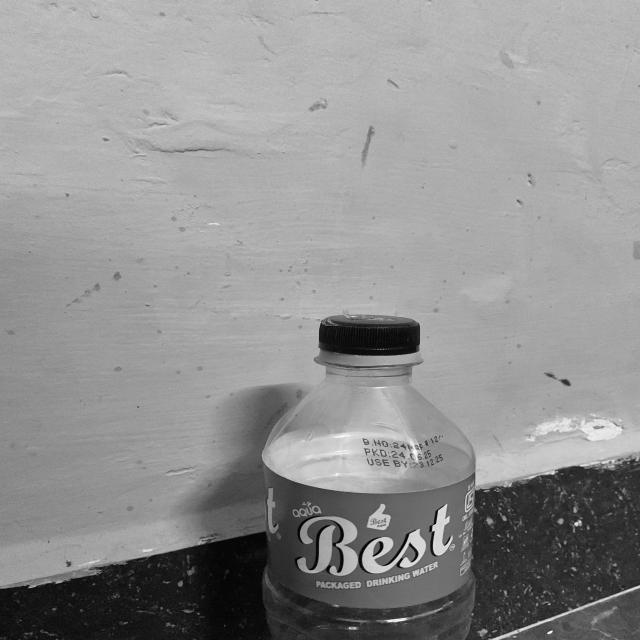Good-cap-Df0S: (317, 310, 425, 367)
